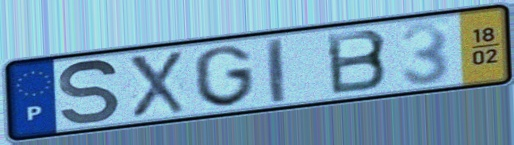3: (399, 19, 452, 87)
B: (323, 27, 391, 98)
G: (191, 42, 258, 109)
I: (263, 35, 289, 106)
S: (56, 58, 124, 127)
X: (124, 49, 189, 121)
